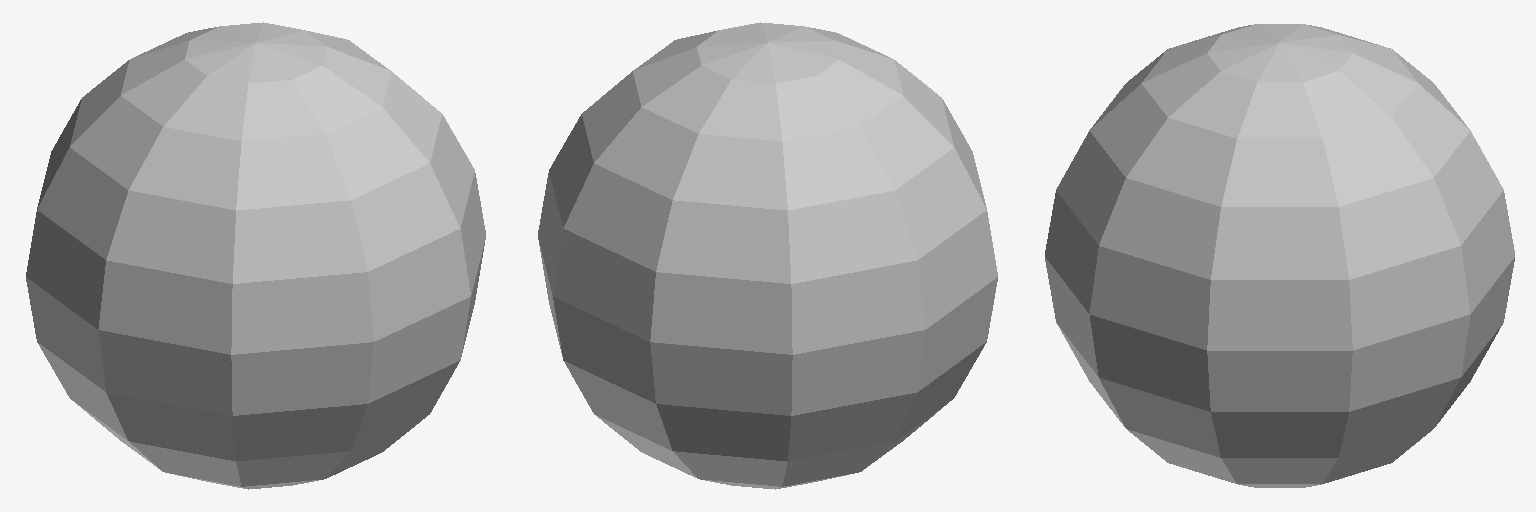
Rendered from sphere_low_res.obj.
3 renders of one model, left to right at view 1: azimuth 30°, elevation 25°; view 2: azimuth 150°, elevation 25°; view 3: azimuth 270°, elevation 25°, orthographic.
Parts seen in each view (by area): view 1: Sphere; view 2: Sphere; view 3: Sphere.
Boxes of the visible parts, x1=… form: Sphere: x1=26, y1=22, x2=485, y2=489; Sphere: x1=538, y1=22, x2=997, y2=489; Sphere: x1=1045, y1=24, x2=1514, y2=487.
Bounding box in the file's own units: 1.9 × 2 × 2.